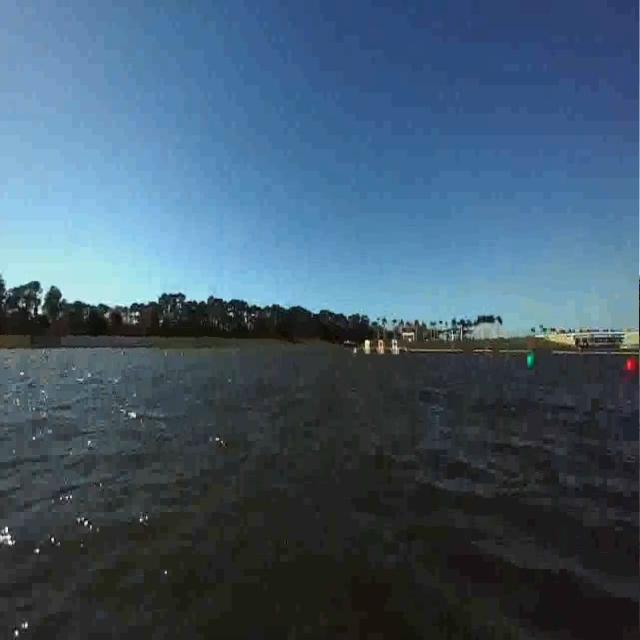green-buoy: (527, 353, 536, 369)
red-buoy: (626, 359, 640, 371)
